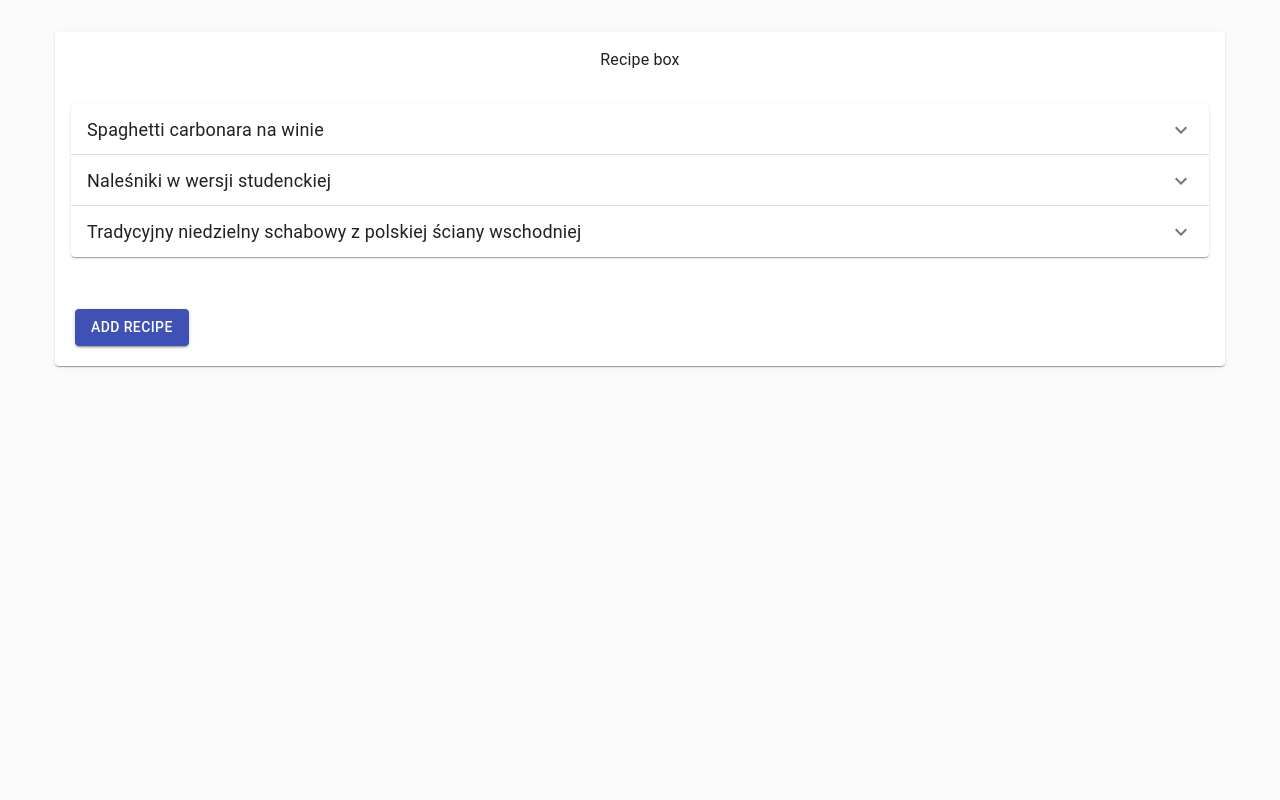
Test: handles "Add recipe Button"
Click the button with id "addRecipeButton" at (132, 327), box x1=75 y1=309 x2=189 y2=346
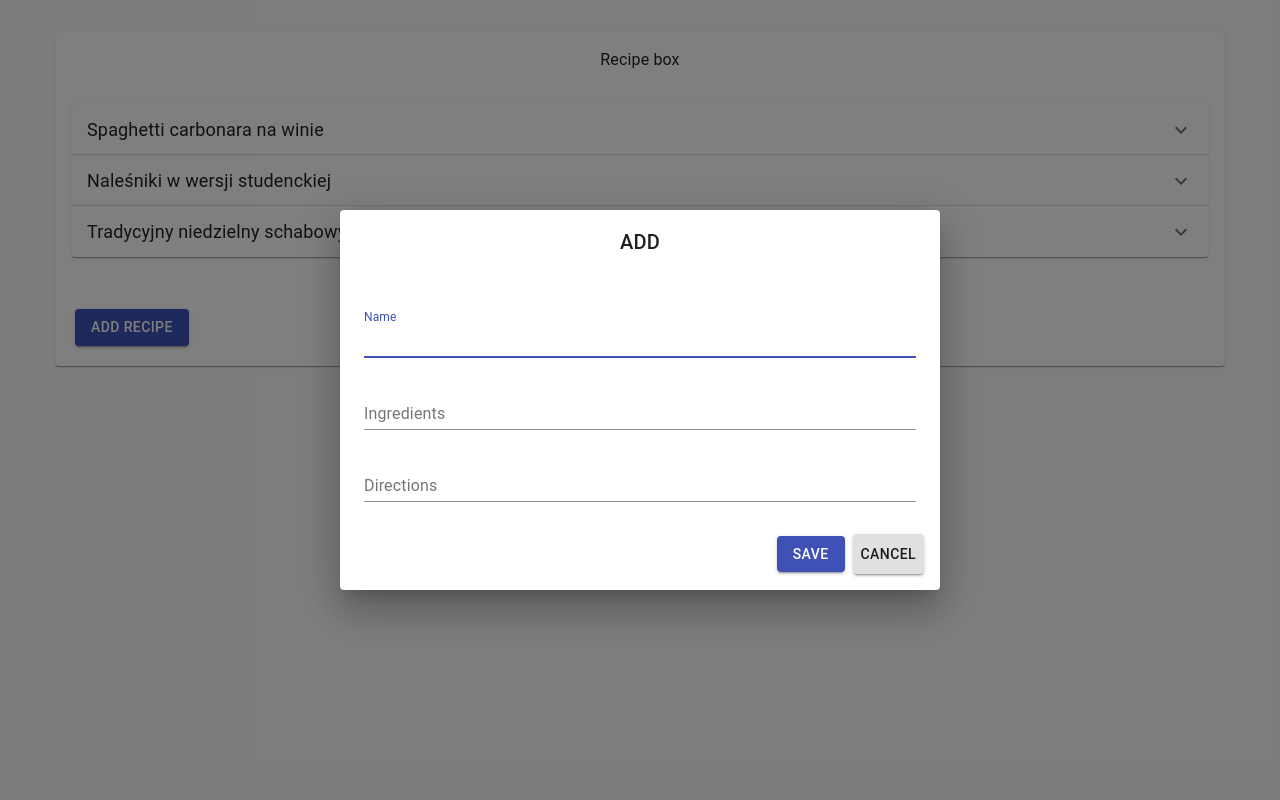
Now the number of "Dialog" components is 1
